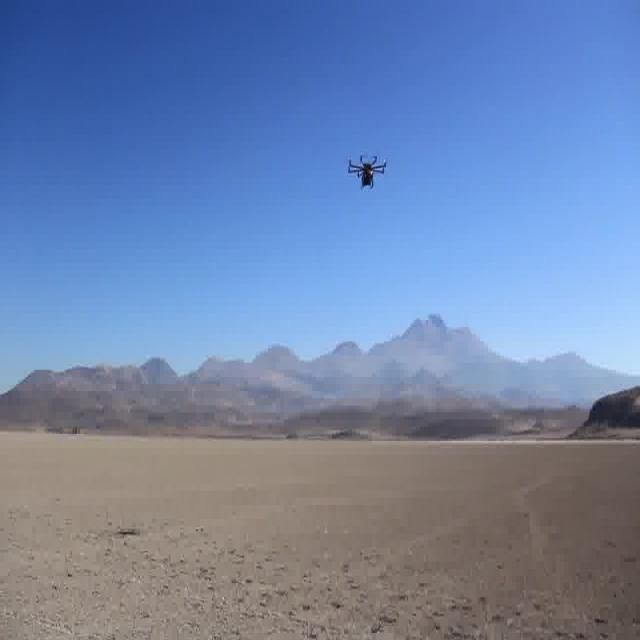drone: (344, 136, 390, 200)
